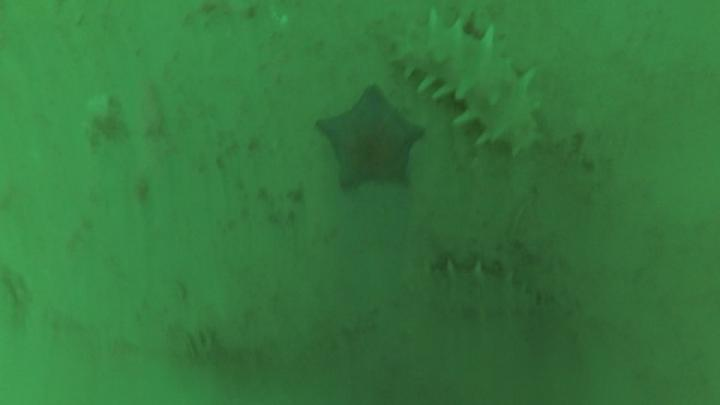holothurian: (386, 8, 541, 155), (413, 265, 541, 325)
starfish: (314, 86, 426, 191)
